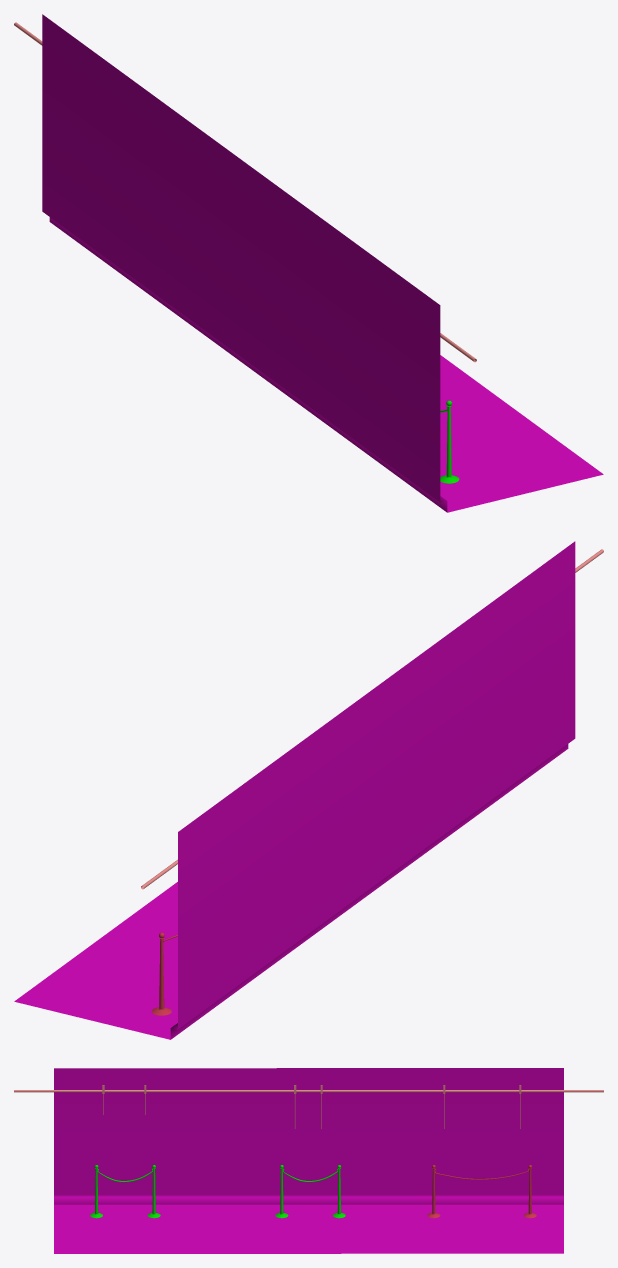
The model's file is Environment_Whole.fbx.
3 renders of one model, top to bottom at view 1: azimuth 30°, elevation 25°; view 2: azimuth 150°, elevation 25°; view 3: azimuth 270°, elevation 25°, orthographic. The views are drawn at different scales.
Parts seen in each view (by area): view 1: pCube12; view 2: pCube12; view 3: pCube12, transform35, pCylinder20, transform36, transform15.
Boxes of the visible parts, x1,y1,x2,y2 form: pCube12: [42, 14, 603, 512]; pCube12: [14, 541, 575, 1039]; pCube12: [54, 1068, 563, 1253]; transform35: [14, 1085, 603, 1128]; pCylinder20: [427, 1165, 536, 1218]; transform36: [275, 1165, 345, 1218]; transform15: [90, 1165, 160, 1218].
Bounding box in the file's own units: 7.55 × 9.22 × 36.67.
